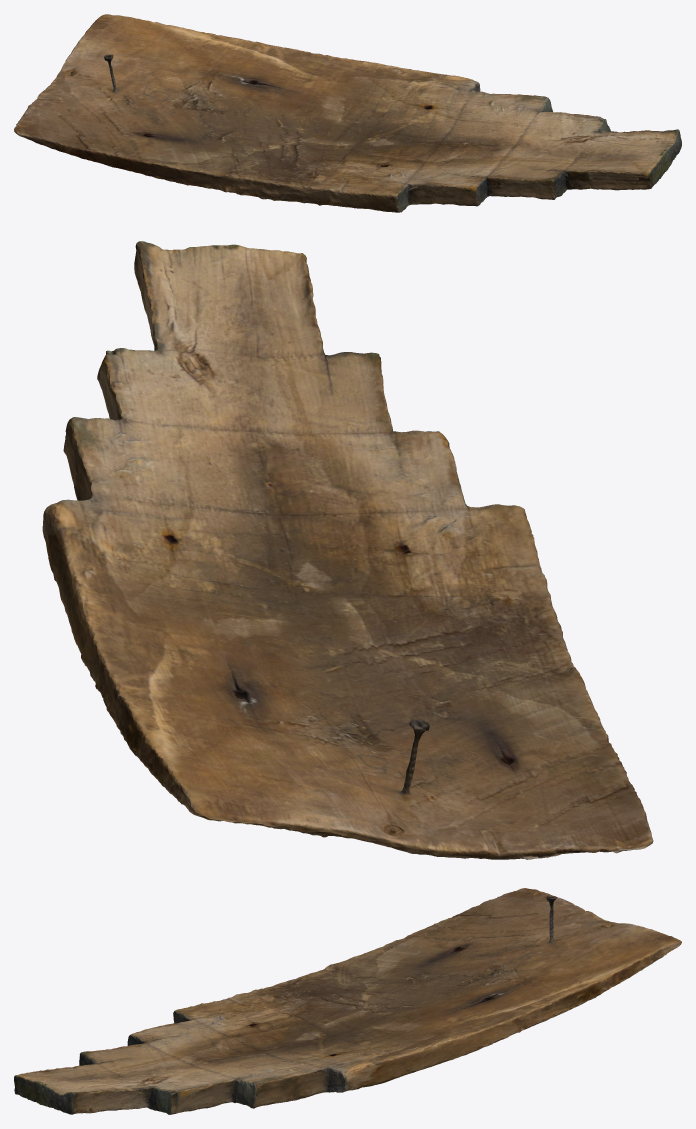
Rendered from ЛМХ.2026.005.glb.
The picture shows the model from 3 angles, top to bottom: view 1: azimuth 30°, elevation 25°; view 2: azimuth 150°, elevation 25°; view 3: azimuth 270°, elevation 25°; orthographic projection. The views are drawn at different scales.
Parts seen in each view (by area): view 1: world; view 2: world; view 3: world.
Part boxes in pixels (bbox=[...]): world: bbox=[14, 14, 681, 212]; world: bbox=[42, 241, 653, 859]; world: bbox=[14, 888, 681, 1114].
Bounding box in the file's own units: 0.9082 × 0.1346 × 1.02.
Materials: 1 (1 with a texture image).
